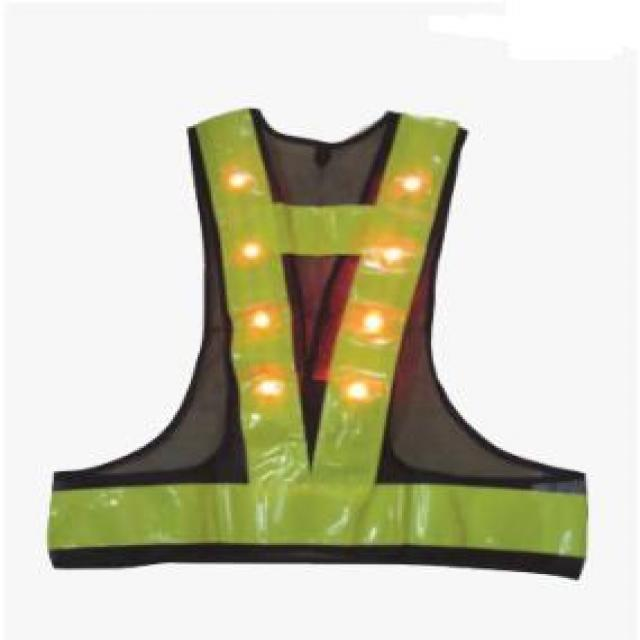Reflective-Jacket: (0, 80, 622, 596)
